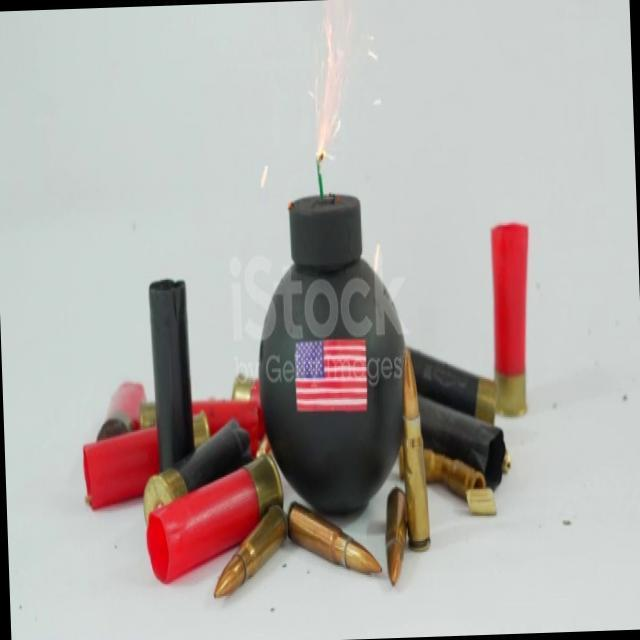grenade: (251, 174, 422, 533)
